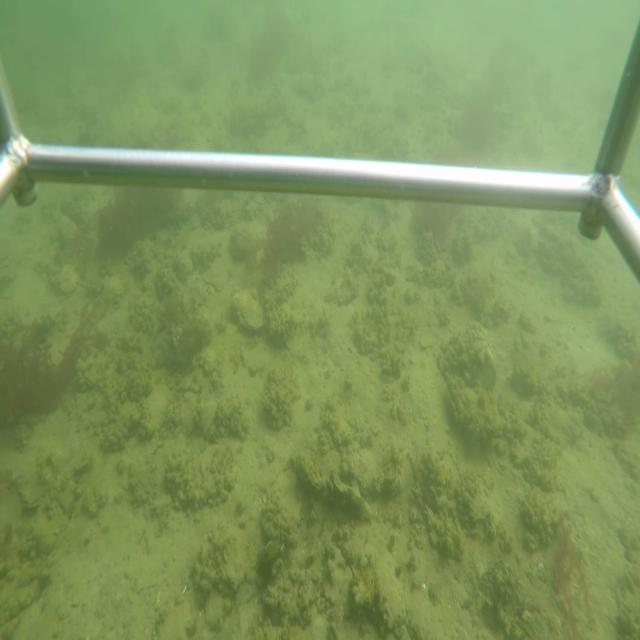Oyster-Closed: (232, 284, 266, 334), (79, 368, 97, 391)
